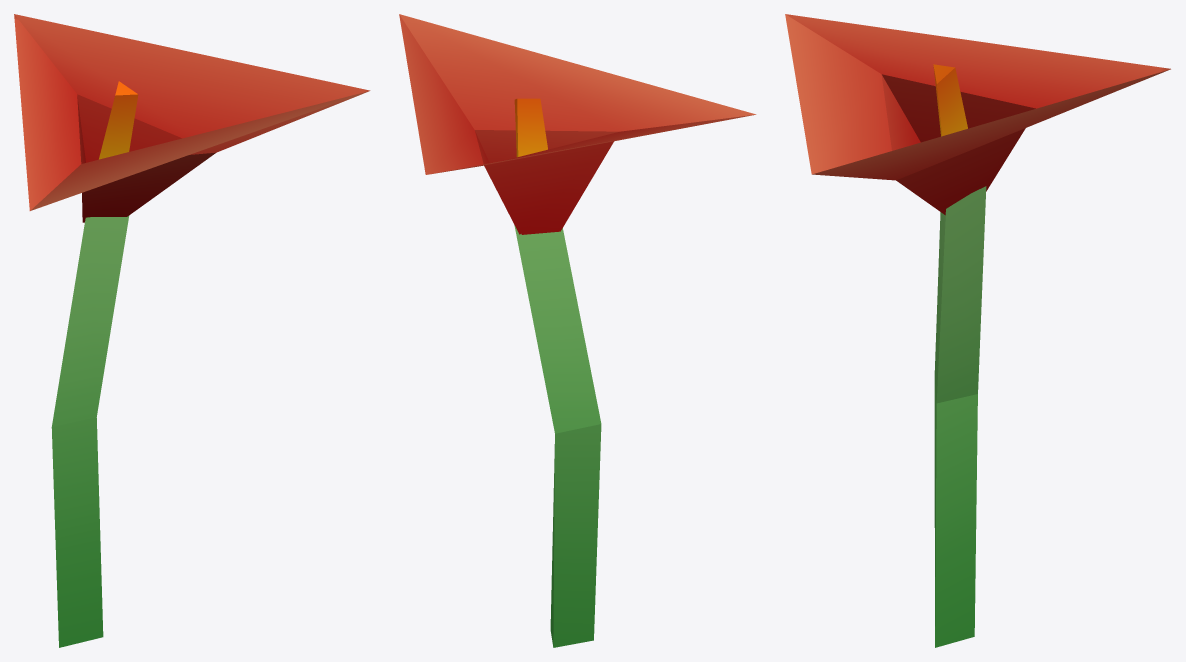
File: flower4.fbx
3 renders of one model, left to right at view 1: azimuth 30°, elevation 25°; view 2: azimuth 150°, elevation 25°; view 3: azimuth 270°, elevation 25°, orthographic. The views are drawn at different scales.
Parts seen in each view (by area): view 1: flower4; view 2: flower4; view 3: flower4.
Boxes of the visible parts, x1,y1,x2,y2 form: flower4: (14,14,370,647); flower4: (399,14,756,647); flower4: (785,14,1170,647).
Size of the model in its own units: 25.96 by 38.16 by 22.53.
